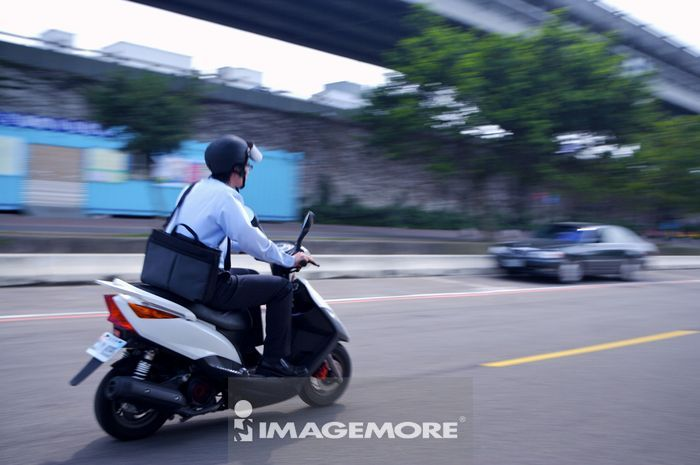helmet: (52, 133, 147, 229), (205, 130, 262, 174)
